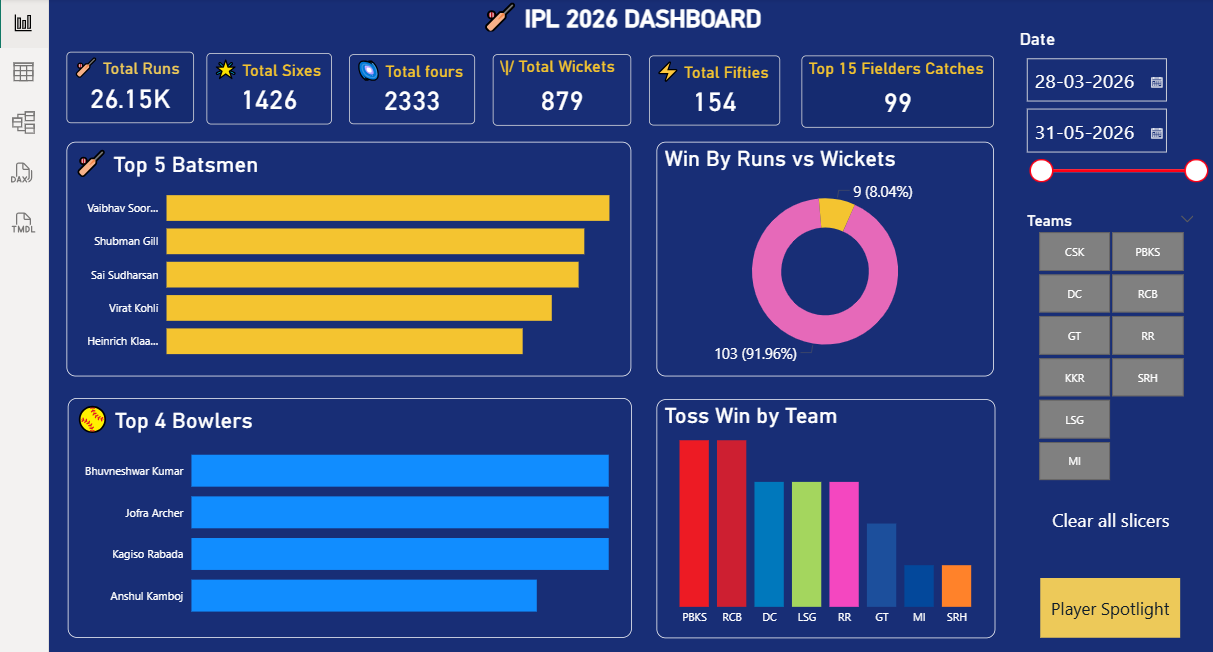

This screenshot's page, from the dashboard's own definition file:
{"tool":"powerbi","page":{"name":"Page 1","canvas":[1280,720],"ordinal":0},"visuals":[{"type":"textbox","title":"🏏 IPL 2026 DASHBOARD","box":[454.2,0,348.5,37],"z":0},{"type":"card","title":"🏏 Total Runs","fields":{"Values":["IPL_Measures.Total Runs"]},"box":[19.2,59,140,78.2],"z":1000},{"type":"card","title":"🌟 Total Sixes","fields":{"Values":["IPL_Measures.Total Sixes"]},"box":[172.9,60.4,137.2,78.2],"z":2000},{"type":"card","title":"🌌 Total fours","fields":{"Values":["IPL_Measures.Total Fours"]},"box":[329.3,61.7,138.6,76.8],"z":3000},{"type":"card","title":"\\|/ Total Wickets","fields":{"Values":["IPL_Measures.Total Wickets"]},"box":[487.1,61.7,152.3,78.2],"z":4000},{"type":"clusteredBarChart","title":"🏏 Top 5 Batsmen","fields":{"Category":["deliveries.striker"],"Y":["IPL_Measures.Total Runs of Batting"]},"box":[19.2,157.8,620.2,258],"z":5000},{"type":"donutChart","title":"Win By Runs vs Wickets","fields":{"Y":["IPL_Measures.Win By Runs","IPL_Measures.Win By Wickets"]},"box":[666.9,157.8,370.5,258],"z":6000},{"type":"clusteredBarChart","title":"🥎 Top 4 Bowlers","fields":{"Category":["deliveries.bowler"],"Y":["IPL_Measures.Total Wickets"]},"box":[20.6,439.1,618.9,263.5],"z":7000},{"type":"columnChart","title":"Toss Win by Team","fields":{"Y":["CountNonNull(matches.match_id)"],"Category":["matches.toss_winner"]},"box":[666.9,440.5,371.9,262.1],"z":8000},{"type":"actionButton","title":"Player Spotlight","box":[1088.2,636.7,153.7,65.9],"z":9000},{"type":"card","title":"⚡ Total Fifties","fields":{"Values":["IPL_Measures.Total Fifties"]},"box":[658.7,63.1,144.1,76.8],"z":10000},{"type":"slicer","title":"Date","fields":{"Values":["deliveries.date"]},"box":[1060.5,34.1,219.5,183.9],"z":11000},{"type":"card","title":"Top 15 Fielders Catches","fields":{"Values":["IPL_Measures.Total Catches"]},"box":[826.1,63.1,211.3,79.6],"z":12000},{"type":"slicer","fields":{"Values":["deliveries.batting_team"]},"box":[1060.7,229.2,208.6,307.4],"z":13000},{"type":"actionButton","box":[1088.2,547.5,155.1,50.8],"z":14000}]}

Visuals, with their boxes on the page's 1280x720 design canvas (x1, y1, x2, y2). These are canvas units, not pixel positions in the 1213x652 screenshot, which may show the page scaled, cropped or inside an application window:
"🏏 IPL 2026 DASHBOARD" textbox: pyautogui.locateOnScreen(454, 0, 803, 37)
"🏏 Total Runs" card: pyautogui.locateOnScreen(19, 59, 159, 137)
"🌟 Total Sixes" card: pyautogui.locateOnScreen(173, 60, 310, 139)
"🌌 Total fours" card: pyautogui.locateOnScreen(329, 62, 468, 138)
"\|/ Total Wickets" card: pyautogui.locateOnScreen(487, 62, 639, 140)
"🏏 Top 5 Batsmen" clusteredBarChart: pyautogui.locateOnScreen(19, 158, 639, 416)
"Win By Runs vs Wickets" donutChart: pyautogui.locateOnScreen(667, 158, 1037, 416)
"🥎 Top 4 Bowlers" clusteredBarChart: pyautogui.locateOnScreen(21, 439, 640, 703)
"Toss Win by Team" columnChart: pyautogui.locateOnScreen(667, 440, 1039, 703)
"Player Spotlight" actionButton: pyautogui.locateOnScreen(1088, 637, 1242, 703)
"⚡ Total Fifties" card: pyautogui.locateOnScreen(659, 63, 803, 140)
"Date" slicer: pyautogui.locateOnScreen(1060, 34, 1280, 218)
"Top 15 Fielders Catches" card: pyautogui.locateOnScreen(826, 63, 1037, 143)
slicer - deliveries.batting_team: pyautogui.locateOnScreen(1061, 229, 1269, 537)
actionButton: pyautogui.locateOnScreen(1088, 548, 1243, 598)
